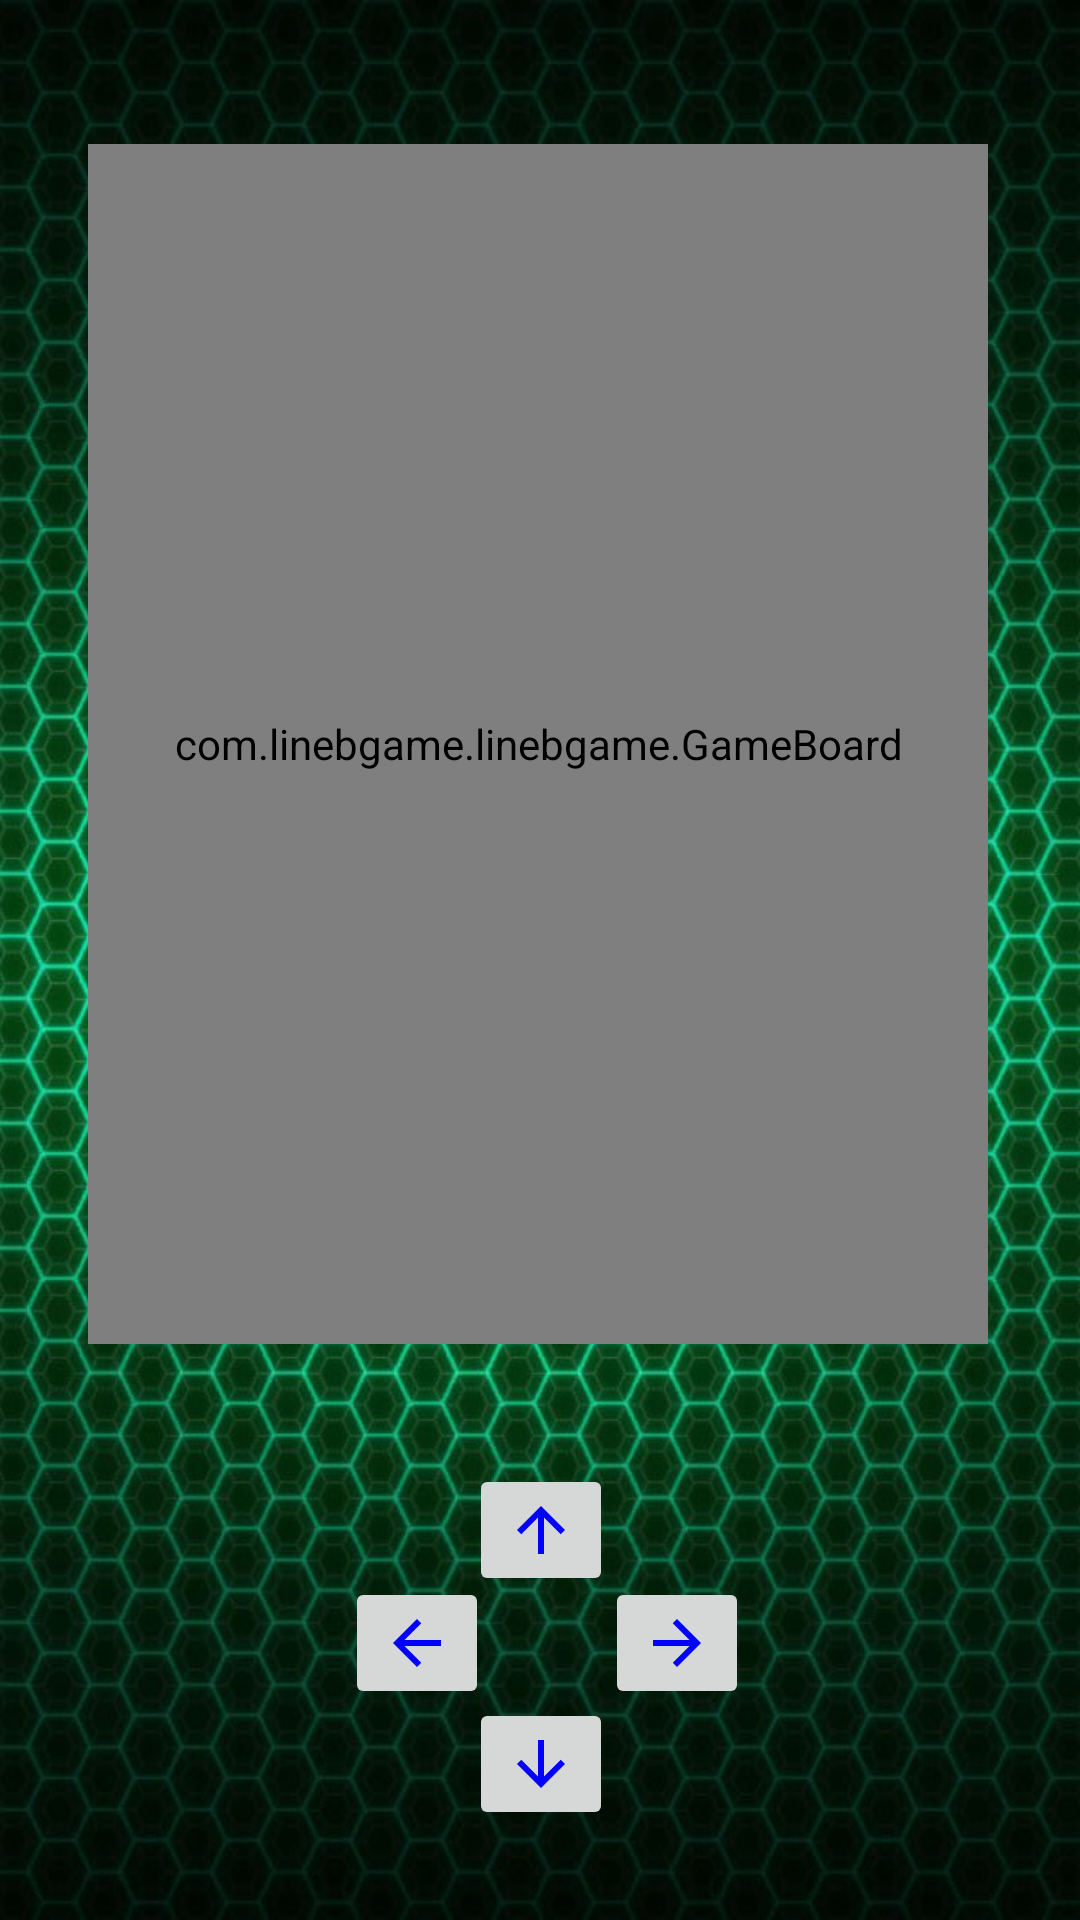

Icon click points for this 1080x1920 phone screenshot, format (x,y):
arrow back: (417,1643)
arrow downward: (541,1758)
arrow forward: (677,1643)
arrow upward: (541,1530)
